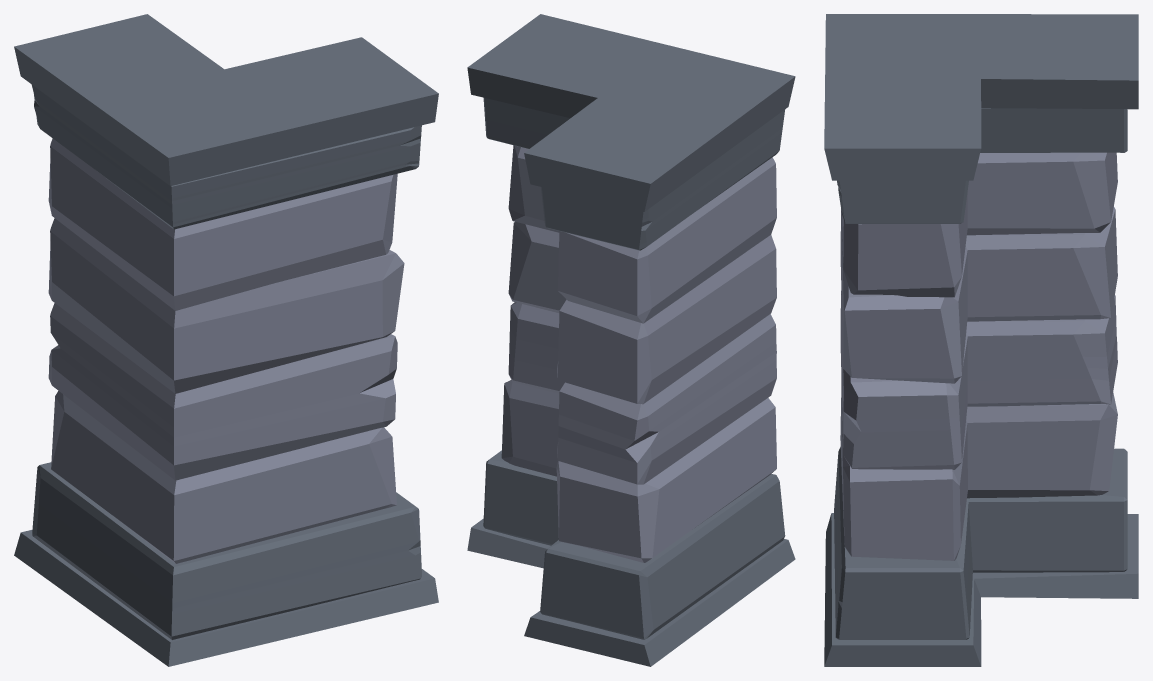
File: Large_Corner_Column.fbx
3 views of the same model, side by side, from view 1: azimuth 30°, elevation 25°; view 2: azimuth 150°, elevation 25°; view 3: azimuth 270°, elevation 25° (orthographic). The views are drawn at different scales.
Parts seen in each view (by area): view 1: Columna_Grande_Esquina; view 2: Columna_Grande_Esquina; view 3: Columna_Grande_Esquina.
Boxes of the visible parts, <box> form: Columna_Grande_Esquina: <box>14,14,438,666</box>; Columna_Grande_Esquina: <box>467,14,795,666</box>; Columna_Grande_Esquina: <box>824,14,1138,666</box>.
Size of the model in its own units: 284 by 511 by 280.
